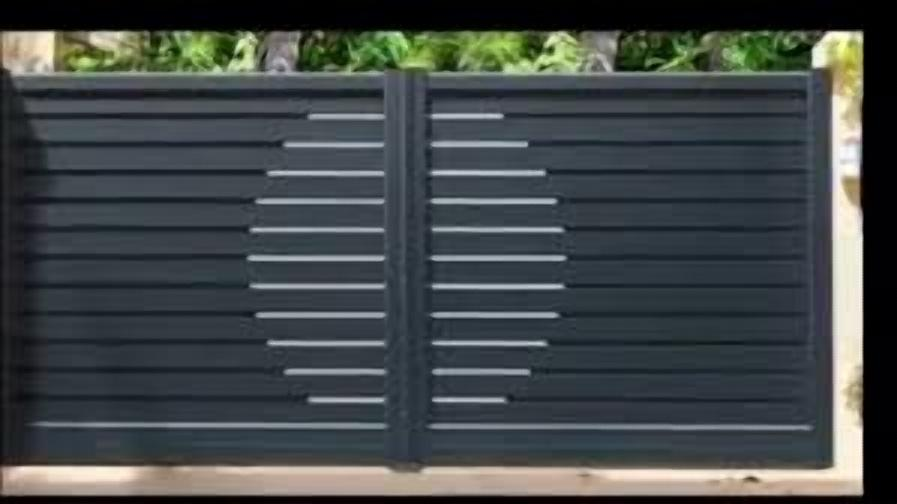Gate: (0, 62, 837, 475)
